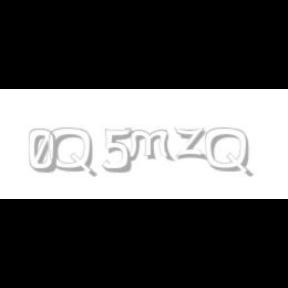0: (29, 128, 60, 174)
5: (102, 128, 132, 174)
Q: (49, 128, 95, 178), (205, 128, 251, 178)
m: (124, 128, 176, 162)
z: (174, 128, 210, 160)
